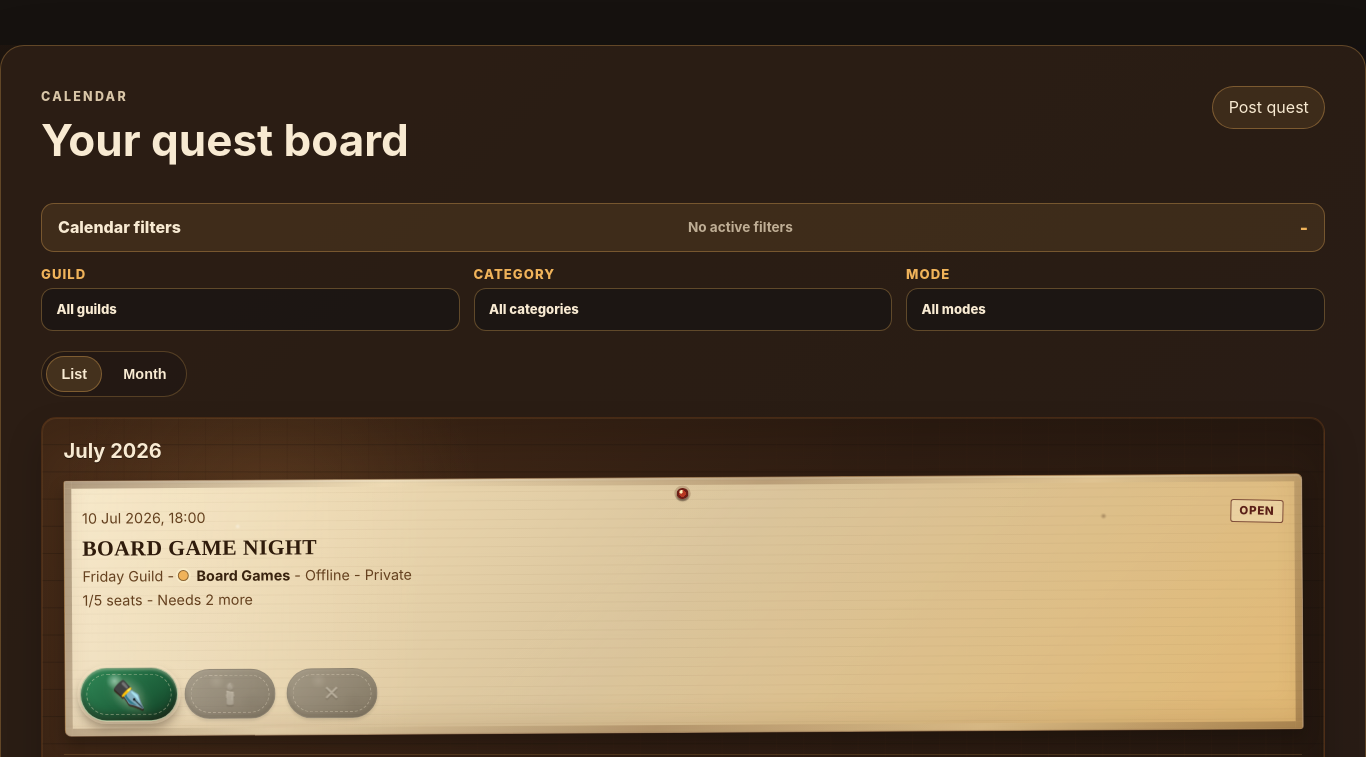
CalendarPage › shows a navigable month calendar view with compact quest links
The width and height of the screenshot is (1366, 757).
(page scrolled)
expect the text "Board game night" is shown: met, box [82,535,317,560]
Click the tab "Month". click: (145, 374)
box: [108,356,182,392]
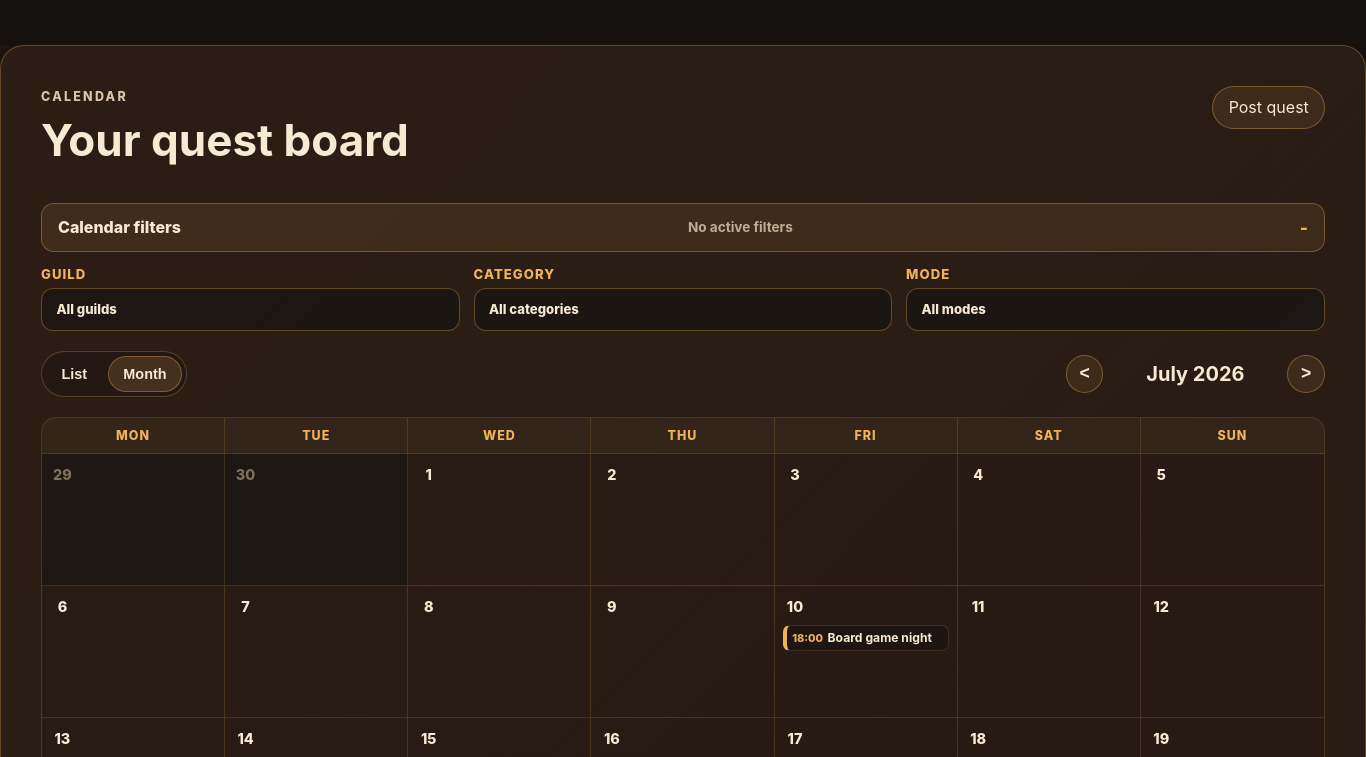
expect the column heading "Mon" is shown: met, box [42,418,225,454]
Click the button named "Next month". click: (1306, 374)
box: [1287,355,1325,392]
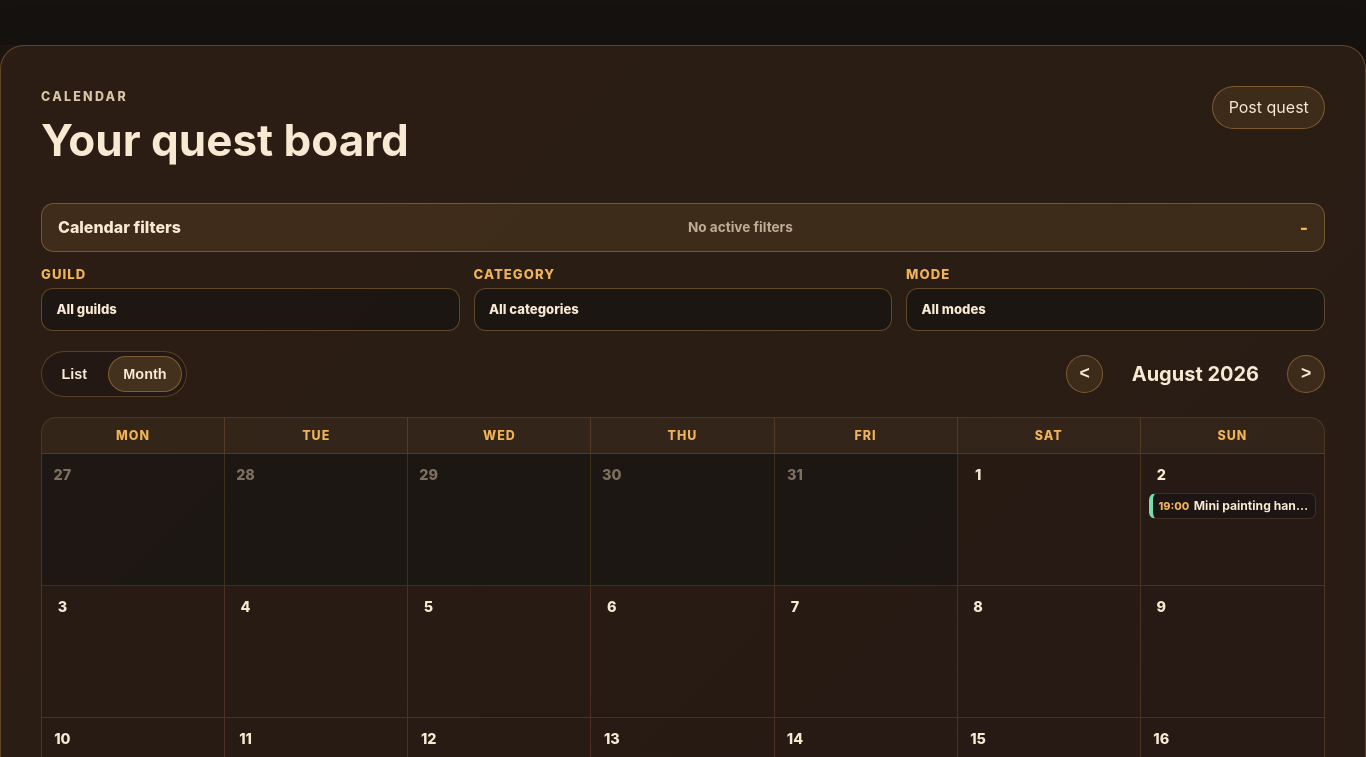
expect the link "19:00 Mini painting hangout" has attribute href="/events/event-2": met, box [1149,493,1316,519]
Click the button named "Previous month". click: (1085, 374)
box: [1066,355,1103,392]
(page scrolled)
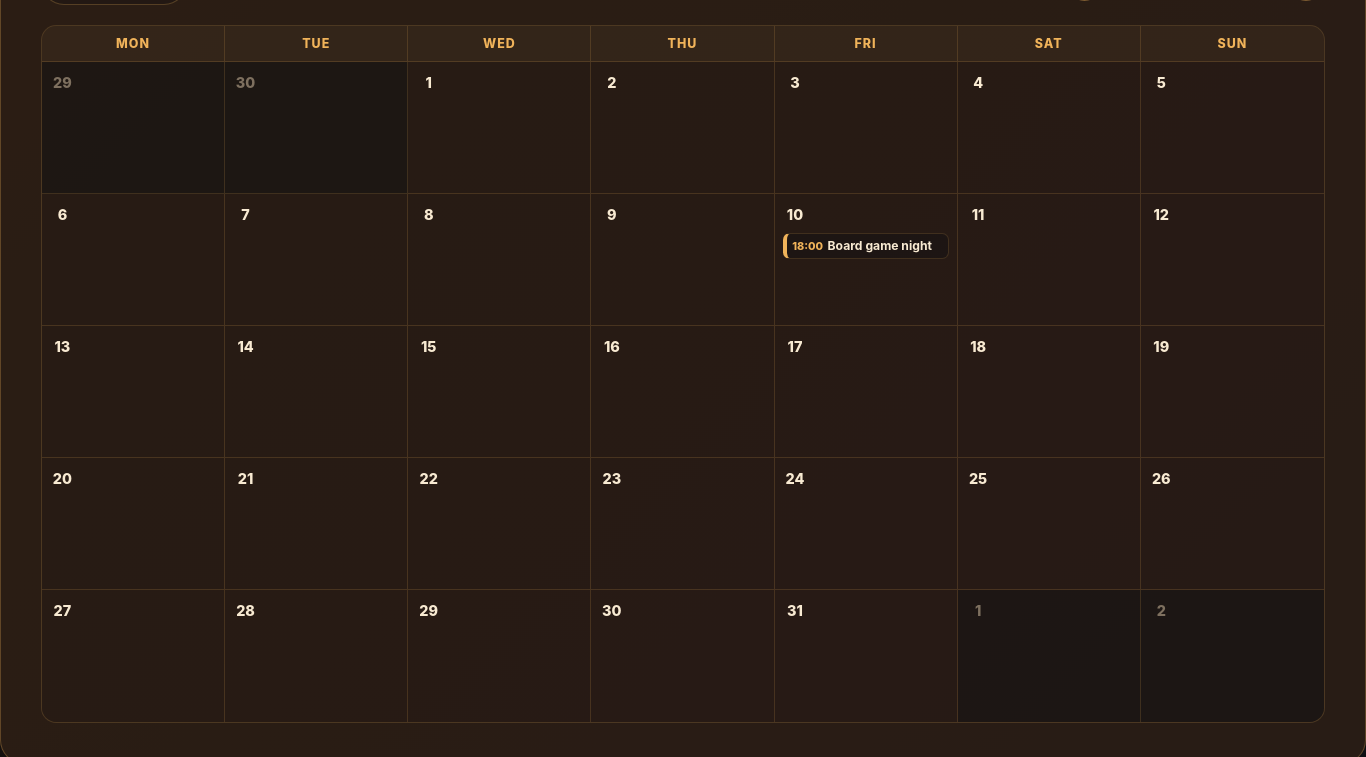
expect the table named "July 2026" is shown: met
